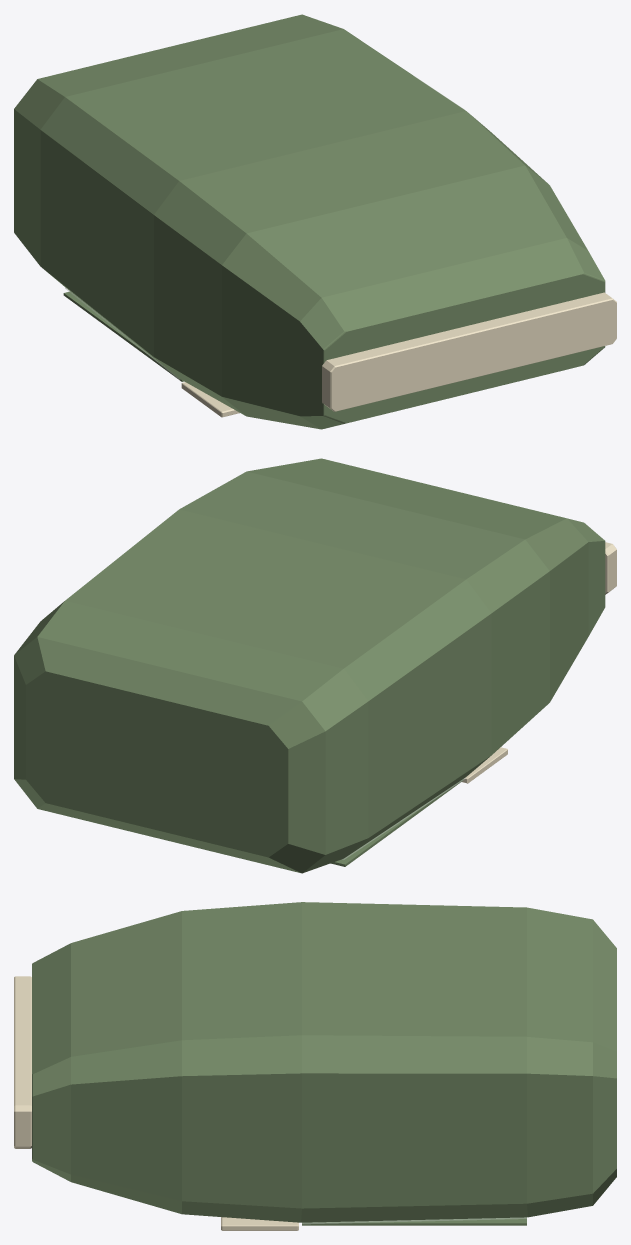
Rendered from bay_leaves.glb.
The picture shows the model from 3 angles, top to bottom: view 1: azimuth 30°, elevation 25°; view 2: azimuth 150°, elevation 25°; view 3: azimuth 270°, elevation 25°; orthographic projection. The views are drawn at different scales.
Visible parts, largest first — view 1: bay_leaves; view 2: bay_leaves; view 3: bay_leaves.
Boxes of the visible parts, bbox=[...] form: bay_leaves: bbox=[14, 14, 616, 429]; bay_leaves: bbox=[14, 458, 616, 873]; bay_leaves: bbox=[14, 902, 616, 1230].
Bounding box in the file's own units: 0.0865 × 0.0504 × 0.1407.
